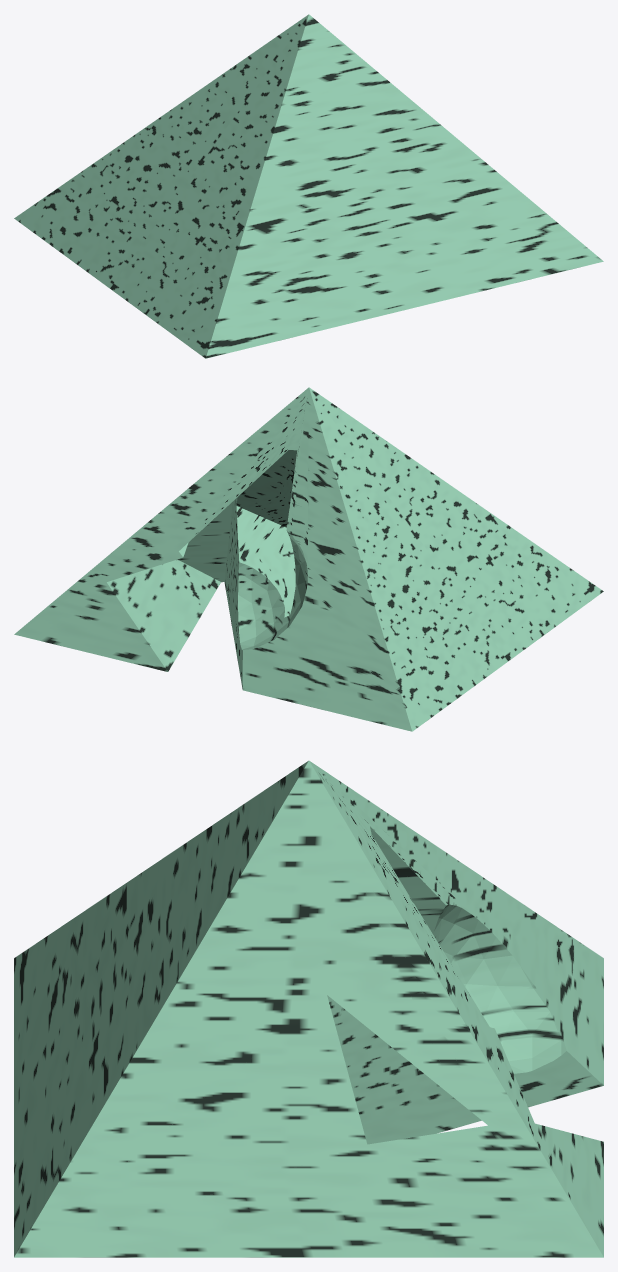
3 renders of one model, top to bottom at view 1: azimuth 30°, elevation 25°; view 2: azimuth 150°, elevation 25°; view 3: azimuth 270°, elevation 25°, orthographic. The views are drawn at different scales.
Visible parts, largest first — view 1: geometry_0; view 2: geometry_0; view 3: geometry_0.
Part boxes in pixels (x1,y1,x2,y2): geometry_0: (14, 14, 603, 358); geometry_0: (14, 387, 603, 731); geometry_0: (14, 760, 603, 1257).
Size of the model in its own units: 1.18 by 0.6403 by 0.985.
1 material, 1 textured.
